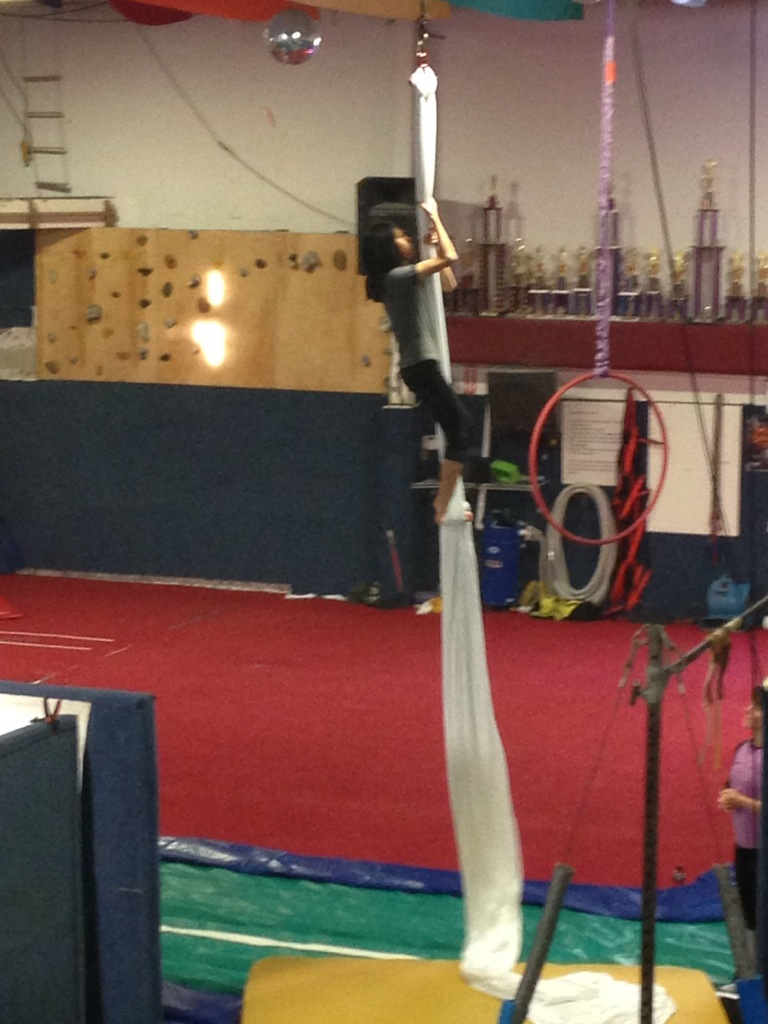Person: (358, 195, 479, 527), (719, 684, 768, 993)
